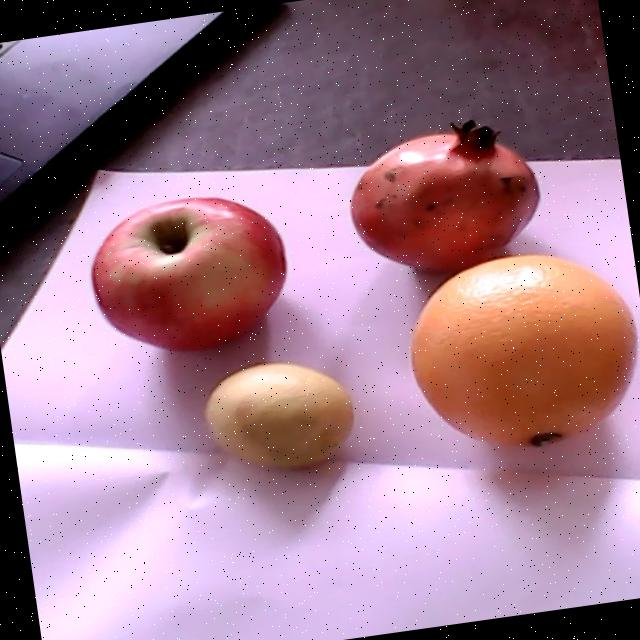apple: (92, 198, 285, 352)
lemon: (201, 361, 354, 469)
orange: (410, 254, 637, 448)
pomegranate: (350, 123, 541, 272)
